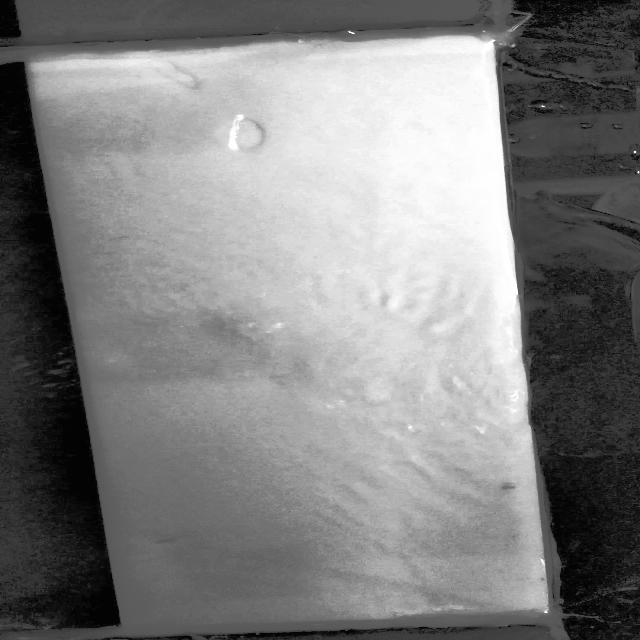shrimp: (140, 530, 205, 552), (498, 479, 531, 494)
